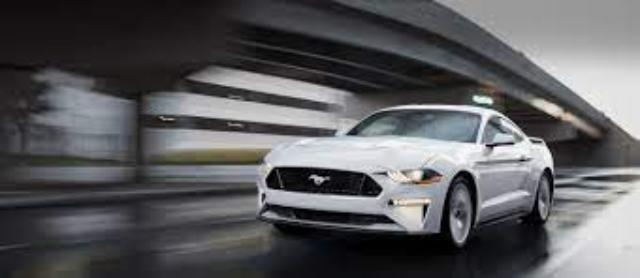ford-mustang: (256, 106, 554, 250)
